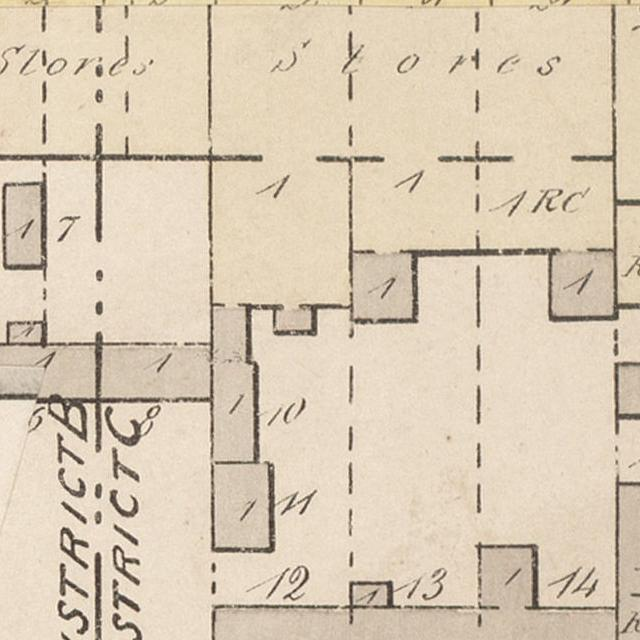building-footprints: (211, 0, 615, 462), (213, 546, 616, 640), (0, 344, 212, 400), (212, 462, 271, 550), (616, 484, 640, 640), (4, 184, 44, 268), (350, 583, 390, 607), (7, 323, 44, 344)
